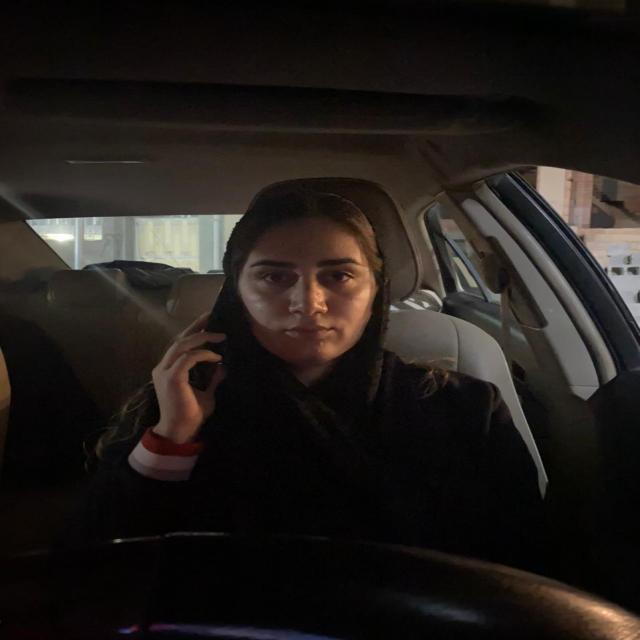mobile: (186, 274, 253, 397)
person: (238, 204, 390, 369)
